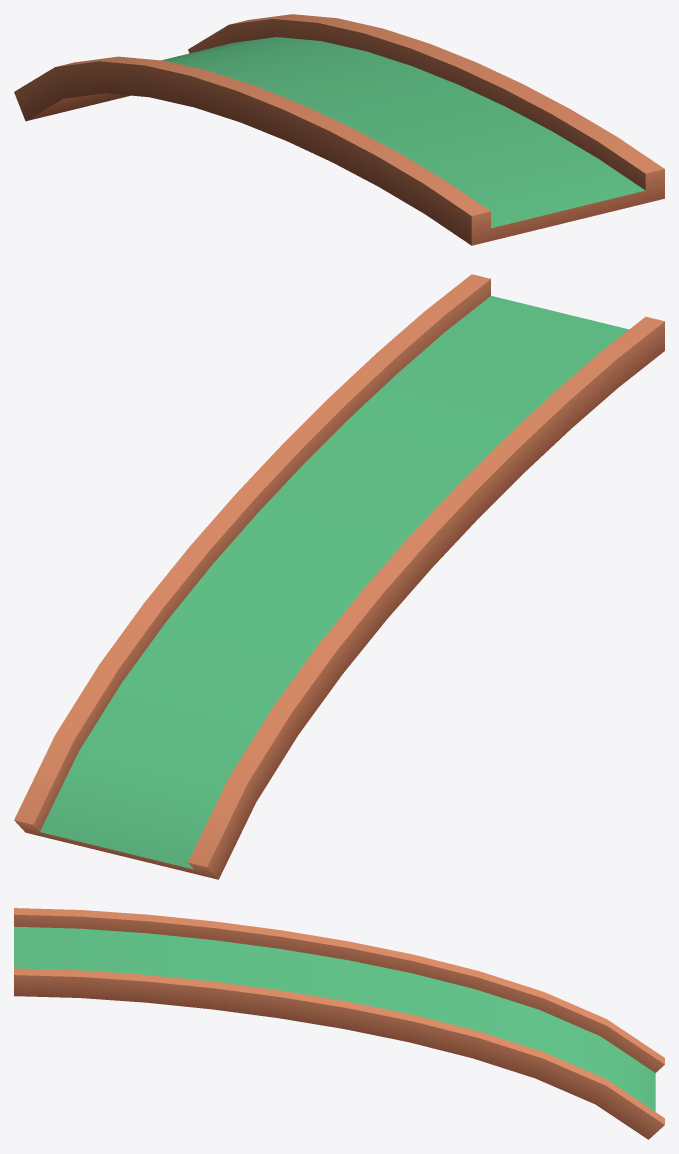
Rendered from spline-default-straight-hill-end.glb.
The picture shows the model from 3 angles, top to bottom: view 1: azimuth 30°, elevation 25°; view 2: azimuth 150°, elevation 25°; view 3: azimuth 270°, elevation 25°; orthographic projection. The views are drawn at different scales.
Visible parts, largest first — view 1: spline-default-straight-hill-end; view 2: spline-default-straight-hill-end; view 3: spline-default-straight-hill-end.
Part boxes in pixels (x1=…): spline-default-straight-hill-end: x1=14, y1=14, x2=664, y2=245; spline-default-straight-hill-end: x1=14, y1=274, x2=664, y2=879; spline-default-straight-hill-end: x1=14, y1=908, x2=664, y2=1139.
Bounding box in the file's own units: 0.9999 × 1.15 × 4.1.
Materials: 1 (1 with a texture image).
